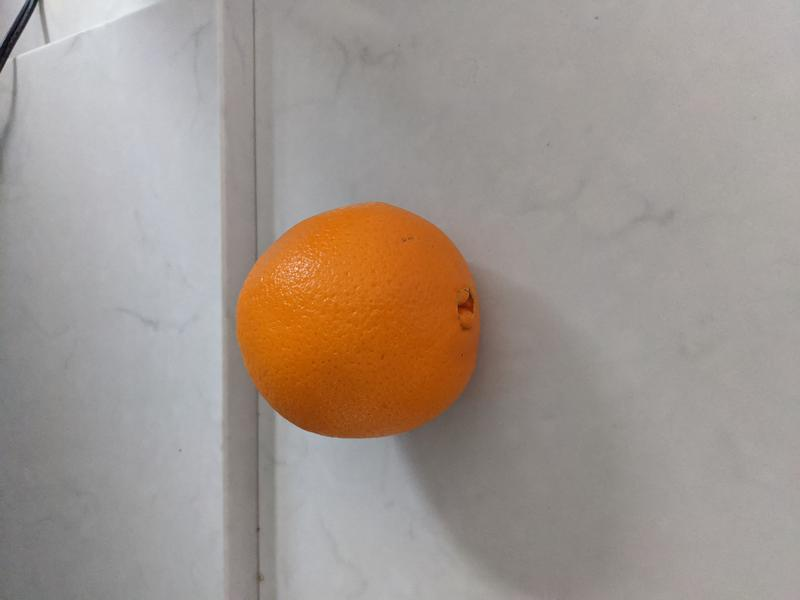orange: (235, 201, 482, 439)
